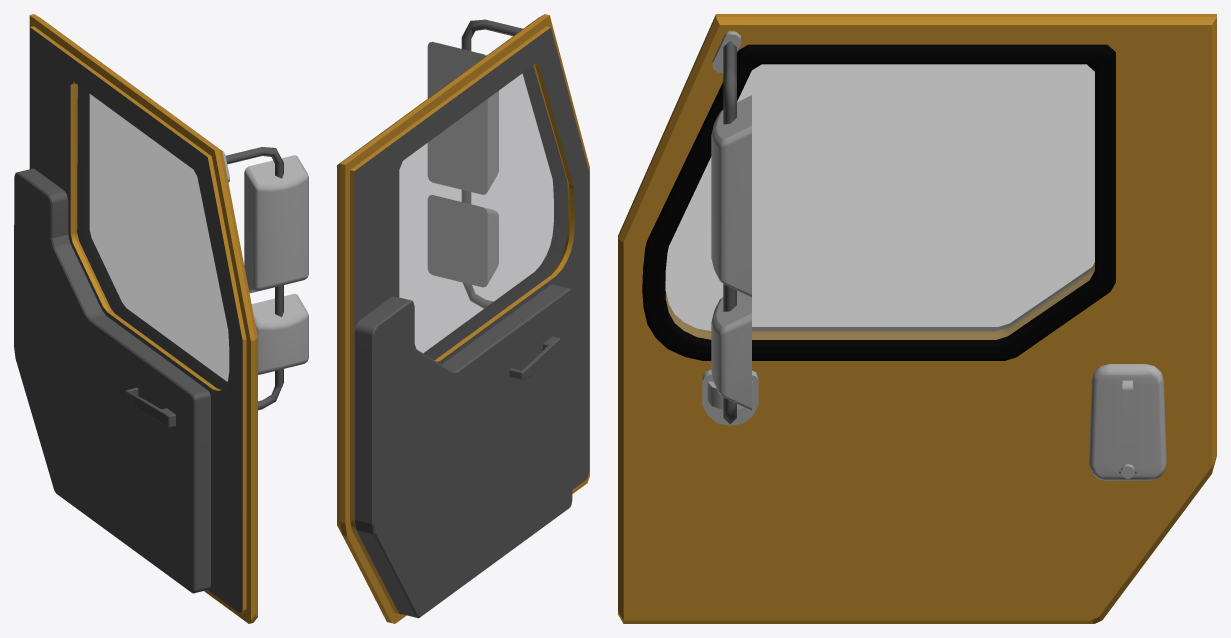
Rendered from MobileCrane_Door_01a_snaps005.fbx.
3 views of the same model, side by side, from view 1: azimuth 30°, elevation 25°; view 2: azimuth 150°, elevation 25°; view 3: azimuth 270°, elevation 25° (orthographic). The views are drawn at different scales.
Visible parts, largest first — view 1: door_front_l2; view 2: door_front_l2; view 3: door_front_l2.
Boxes of the visible parts, x1=… form: door_front_l2: x1=14, y1=14, x2=308, y2=623; door_front_l2: x1=337, y1=14, x2=589, y2=623; door_front_l2: x1=618, y1=14, x2=1216, y2=623.
Bounding box in the file's own units: 36.31 × 120 × 107.
